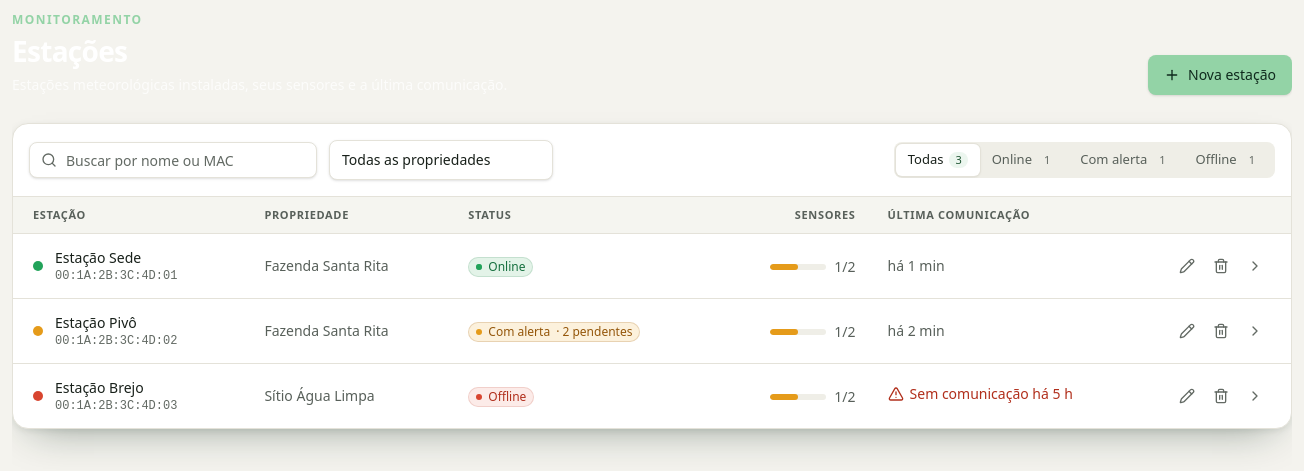
Test: StationsPage › filtra por status, propriedade e busca
This screenshot has width=1304, height=471.
Check: the text "Estação Sede" is shown, box [55,248,141,267]
Click the radio button labelled "Offline 1". click: (1228,160)
box: [1184,144,1273,176]
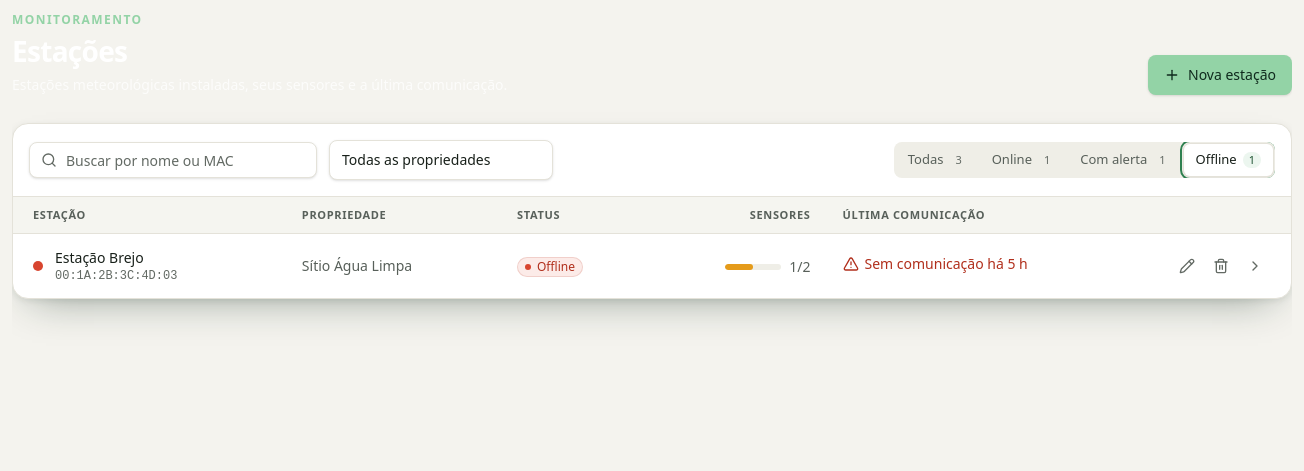
Check: the text "Estação Brejo" is shown, box [55,248,144,267]
Check: the link "Estação Sede" is gone
Click the radio button labelled "Todas 3". click: (938,160)
box: [896,144,980,176]
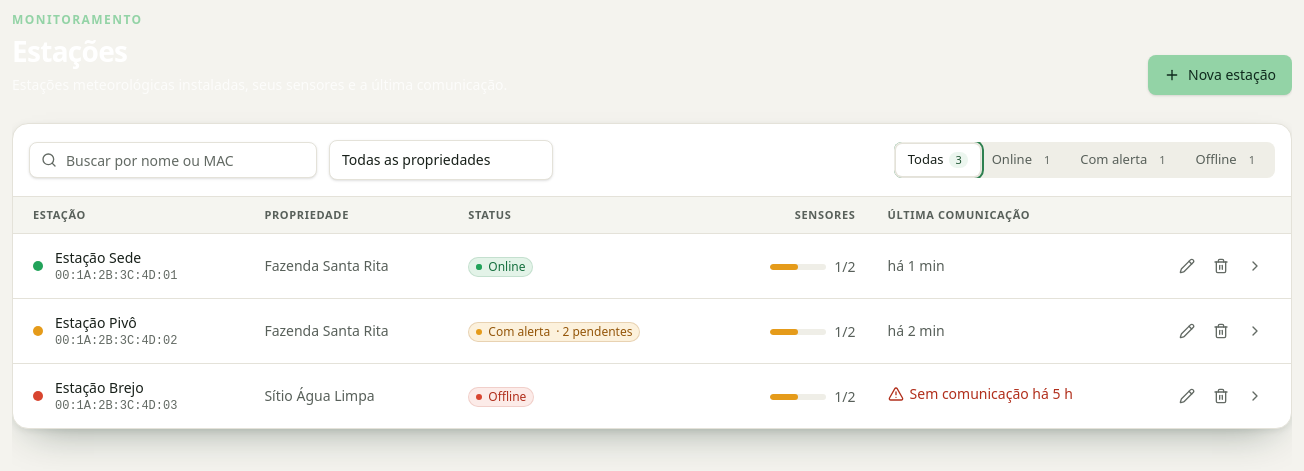
Select "Fazenda Santa Rita" in the dropdown named "Filtrar por propriedade". click: (441,160)
box: [329,140,553,180]
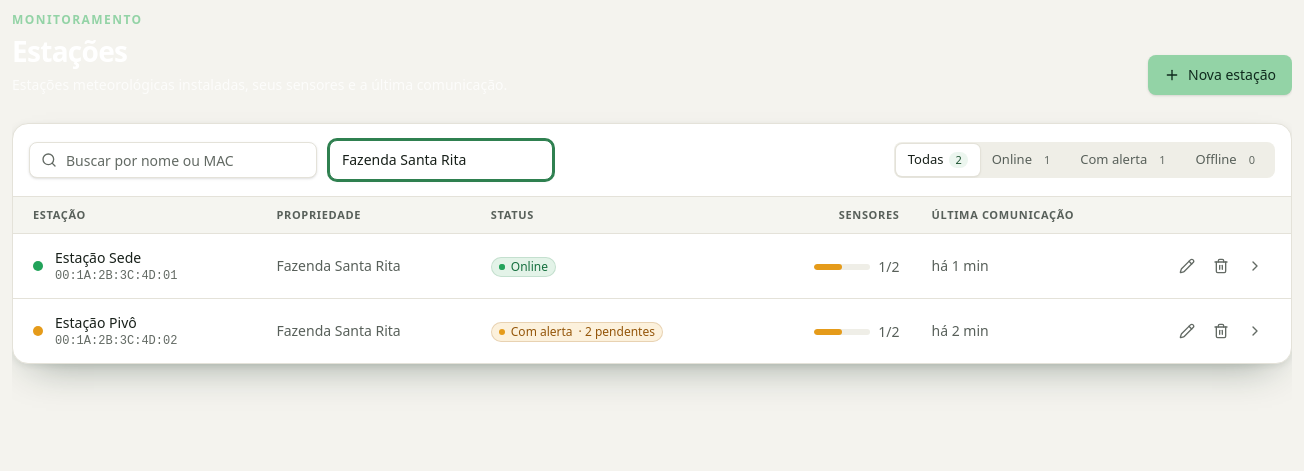
Check: the link "Estação Brejo" is gone
Type "4d:02" into the search field named "Buscar estação". click: (173,160)
box: [29,142,317,178]
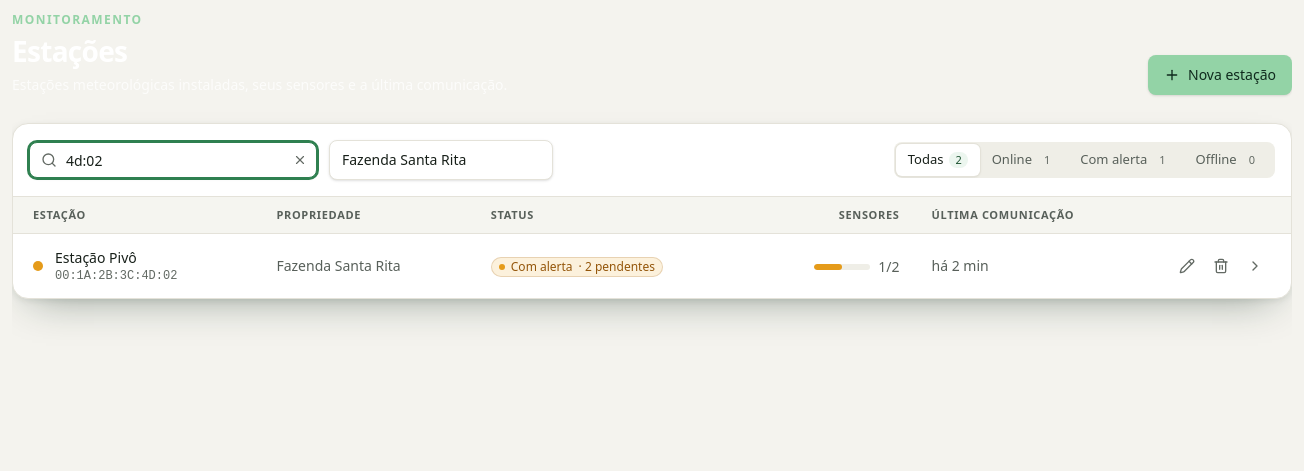
Check: the number of rows is 2, box [13,197,1291,233]; [13,233,1291,298]
Check: the text "Estação Pivô" is shown, box [55,248,137,267]
Replace the text in the search field named "Buscar estação" with "zzz". click: (173,160)
box: [29,142,317,178]
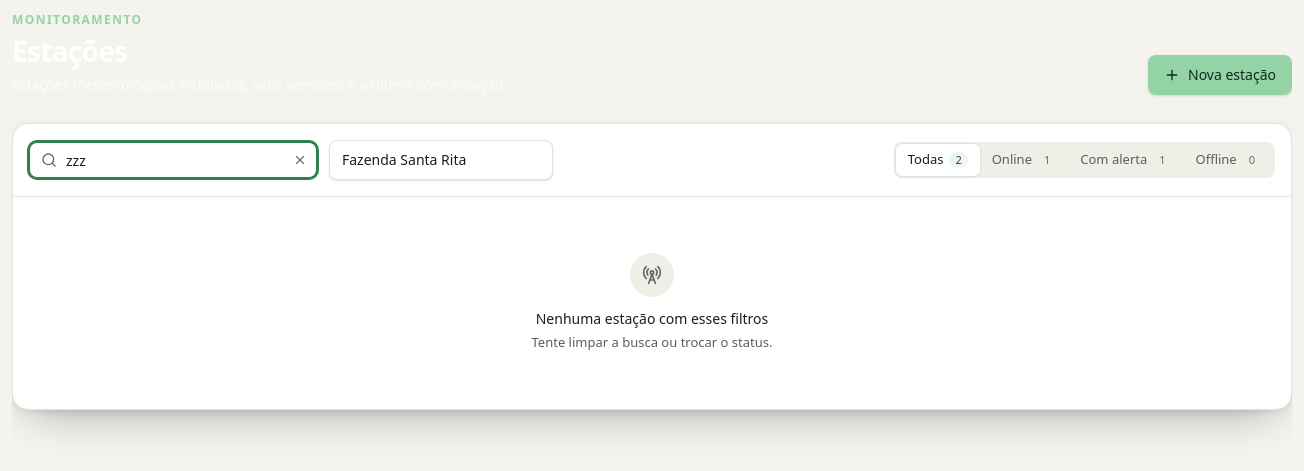
Check: the text "Nenhuma estação com esses filtros" is shown, box [536,309,768,329]
